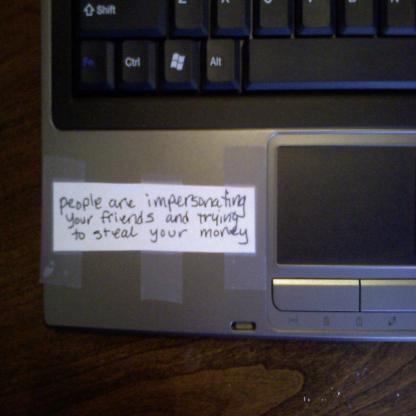board: (18, 0, 410, 359)
